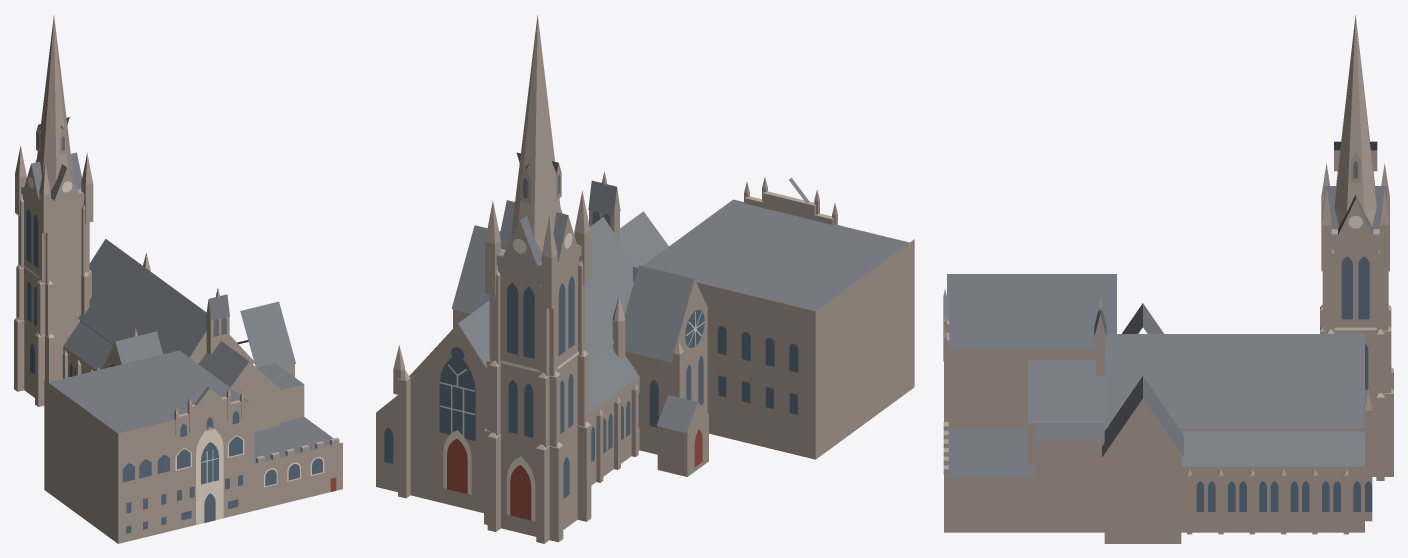
Rendered from pit-trinity-cathedral.glb.
3 views of the same model, side by side, from view 1: azimuth 30°, elevation 25°; view 2: azimuth 150°, elevation 25°; view 3: azimuth 270°, elevation 25° (orthographic). The views are drawn at different scales.
Visible parts, largest first — view 1: Trinity Episcopal Cathedral; view 2: Trinity Episcopal Cathedral; view 3: Trinity Episcopal Cathedral.
Boxes of the visible parts, bbox=[...] form: Trinity Episcopal Cathedral: bbox=[14, 15, 342, 543]; Trinity Episcopal Cathedral: bbox=[376, 15, 914, 543]; Trinity Episcopal Cathedral: bbox=[943, 15, 1393, 543].
Bounding box in the file's own units: 44 × 65 × 58.92.
